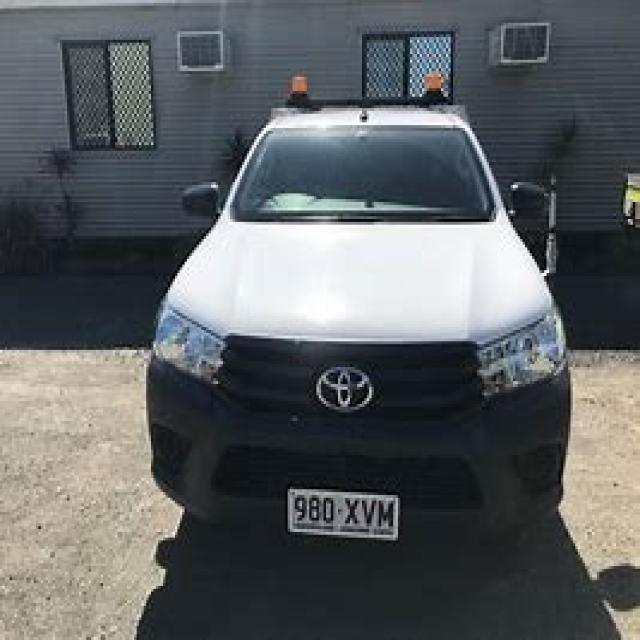light_vehicle: (120, 65, 587, 549)
